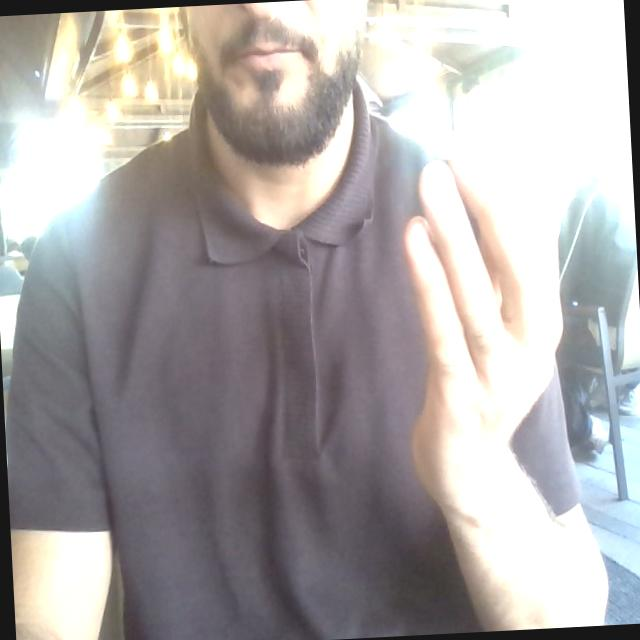Hand: (406, 151, 561, 511)
